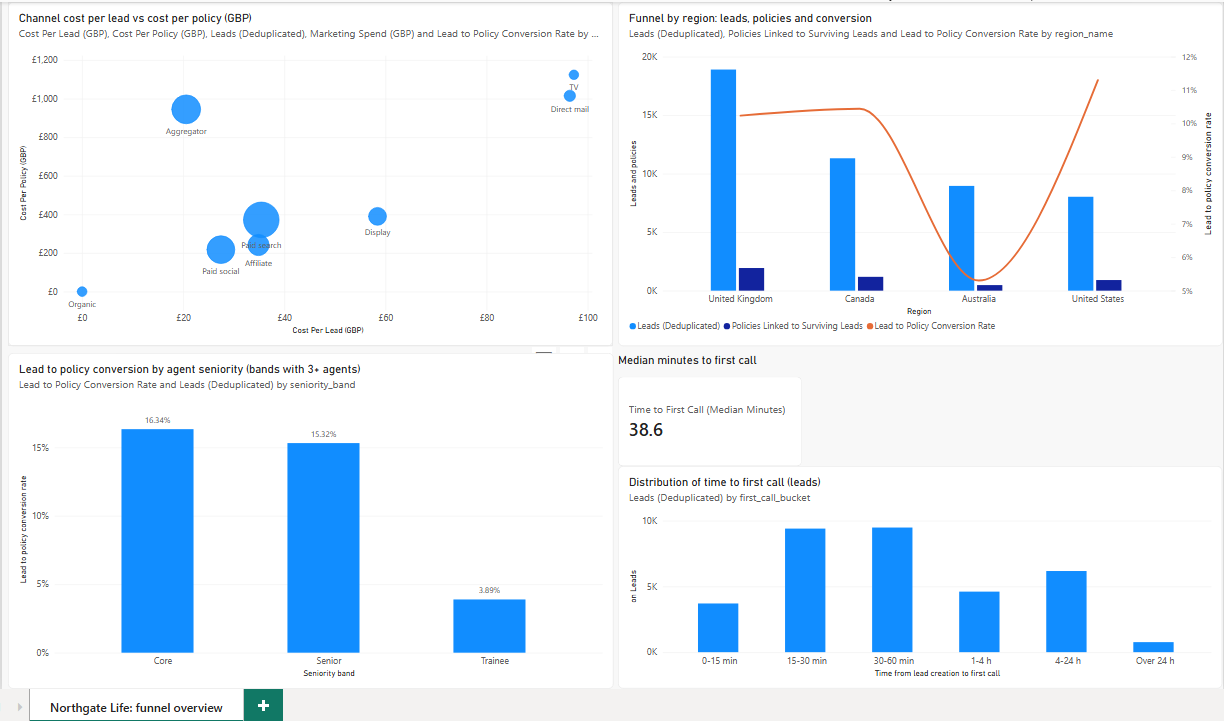

The dashboard page shown, as its layout file describes it:
{"tool":"powerbi","page":{"name":"Northgate Life: funnel overview","canvas":[1920,1080],"ordinal":0},"visuals":[{"type":"scatterChart","title":"Channel cost per lead vs cost per policy (GBP)","fields":{"Category":["dim_channel.channel_name"],"Size":["Key Measures.Leads (Deduplicated)"],"X":["Key Measures.Cost Per Lead (GBP)"],"Y":["Key Measures.Cost Per Policy (GBP)"]},"box":[9.4,0,951.1,540.8],"z":0},{"type":"lineClusteredColumnComboChart","title":"Funnel by region: leads, policies and conversion","fields":{"Category":["dim_region.region_name"],"Y":["Key Measures.Leads (Deduplicated)","Key Measures.Policies Linked to Surviving Leads"],"Y2":["Key Measures.Lead to Policy Conversion Rate"]},"box":[968.4,0,951.1,540.8],"z":1000},{"type":"clusteredColumnChart","title":"Lead to policy conversion by agent seniority (bands with 3+ agents)","fields":{"Category":["dim_agent_seniority.seniority_band"],"Y":["Key Measures.Lead to Policy Conversion Rate"]},"box":[8.8,551.1,952.1,528.1],"z":2000},{"type":"clusteredColumnChart","title":"Distribution of time to first call (leads)","fields":{"Category":["fact_lead_funnel.first_call_bucket"],"Y":["Key Measures.Leads (Deduplicated)"]},"box":[967.9,729.5,950.3,349.7],"z":3000},{"type":"cardVisual","title":"Median minutes to first call","fields":{"Data":["Key Measures.Time to First Call (Median Minutes)"]},"box":[967.9,551.1,289.7,178.4],"z":4000}]}

Visuals, with their boxes on the page's 1920x1080 design canvas (x1, y1, x2, y2). These are canvas units, not pixel positions in the 1224x721 screenshot, which may show the page scaled, cropped or inside an application window:
"Channel cost per lead vs cost per policy (GBP)" scatterChart: box=[9, 0, 960, 541]
"Funnel by region: leads, policies and conversion" lineClusteredColumnComboChart: box=[968, 0, 1920, 541]
"Lead to policy conversion by agent seniority (bands with 3+ agents)" clusteredColumnChart: box=[9, 551, 961, 1079]
"Distribution of time to first call (leads)" clusteredColumnChart: box=[968, 730, 1918, 1079]
"Median minutes to first call" cardVisual: box=[968, 551, 1258, 730]
